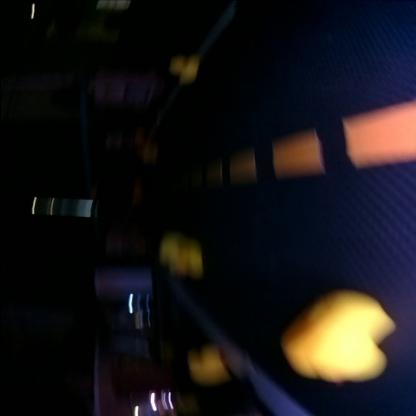Duckie: (282, 292, 392, 383), (158, 237, 200, 280), (186, 348, 226, 384), (167, 58, 197, 84)
